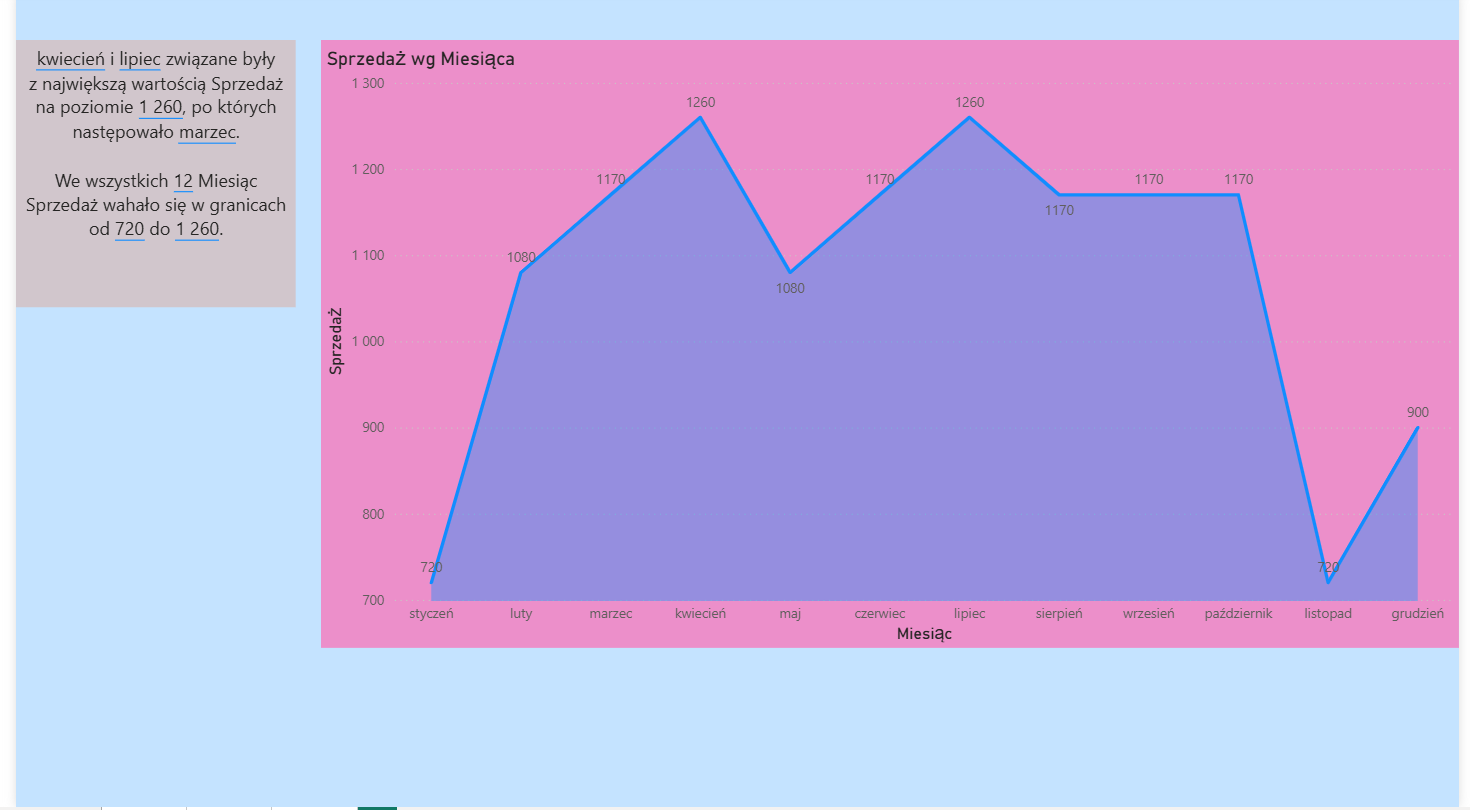

This screenshot's page, from the dashboard's own definition file:
{"tool":"powerbi","page":{"name":"Strona 3","canvas":[1280,720],"ordinal":2},"visuals":[{"type":"areaChart","title":"Sprzedaż wg Miesiąca","fields":{"Category":["Walmart_Sales.Date_Sales.Odmiana.Hierarchia dat.Miesiąc"],"Y":["CountNonNull(Walmart_Sales.Weekly_Sales)"]},"box":[248.3,39.9,1032.1,615.4],"z":0},{"type":"textbox","box":[0,39.9,248.4,237.3],"z":1000}]}

Visuals, with their boxes in screenshot pixels (x1, y1, x2, y2), scaled from the page's 1280x720 canvas onto the 1470x810 screenshot:
"Sprzedaż wg Miesiąca" areaChart: 285, 45, 1469, 737
textbox: 0, 45, 285, 312
